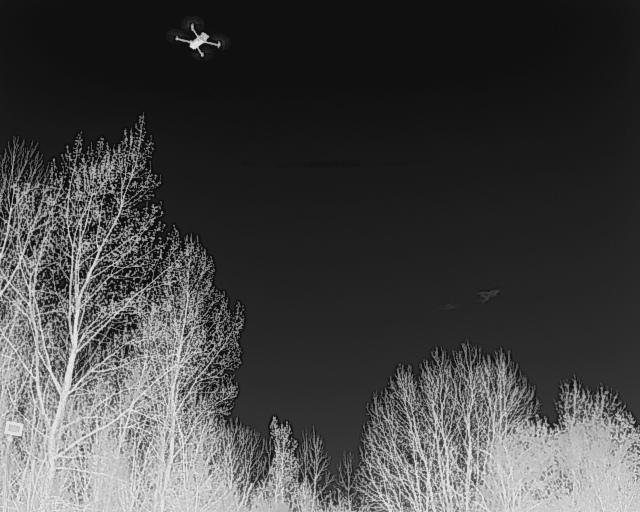drone: (162, 7, 235, 70)
